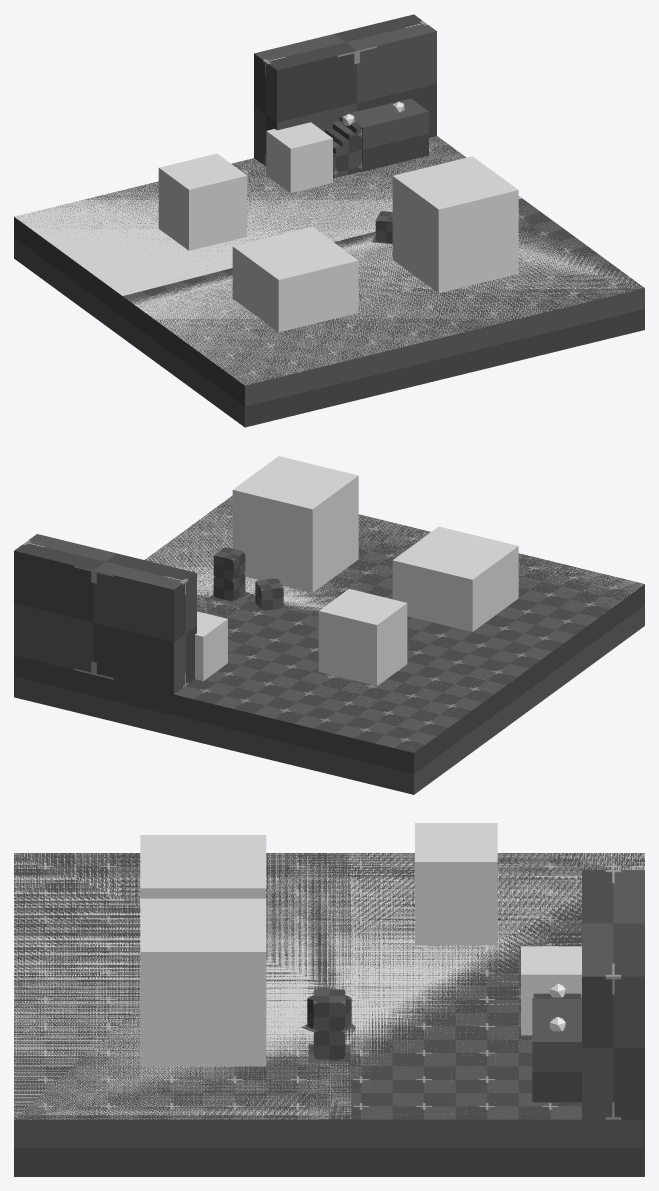
Rendered from test_rooms.glb.
3 views of the same model, one above another, from view 1: azimuth 30°, elevation 25°; view 2: azimuth 150°, elevation 25°; view 3: azimuth 270°, elevation 25° (orthographic). The views are drawn at different scales.
Parts seen in each view (by area): view 1: floor, walk_area, Cube, interactable.002, interactable.001, interactable.003.cleaner_dialog, Cube.001, interactable.003, stairs; view 2: floor, Cube, interactable.002, interactable.001, interactable.003.cleaner_dialog, walk_area, interactable.003, cube tall, cube small; view 3: floor, walk_area, interactable.002, Cube, interactable.003.cleaner_dialog, interactable.001, Cube.001, interactable.003, cube tall.
Boxes of the visible parts, x1,y1,x2,y2 form: floor: (14, 136, 644, 427); walk_area: (14, 136, 644, 385); Cube: (254, 14, 436, 166); interactable.002: (392, 156, 518, 293); interactable.001: (232, 227, 358, 332); interactable.003.cleaner_dialog: (158, 153, 247, 250); Cube.001: (346, 98, 428, 171); interactable.003: (266, 122, 332, 192); stairs: (325, 114, 362, 178); floor: (14, 495, 644, 794); Cube: (14, 534, 196, 694); interactable.002: (232, 456, 358, 592); interactable.001: (392, 526, 518, 631); interactable.003.cleaner_dialog: (318, 589, 407, 685); walk_area: (145, 496, 643, 747); interactable.003: (195, 611, 227, 680); cube tall: (213, 547, 245, 601); cube small: (255, 578, 283, 610); floor: (14, 853, 644, 1176); walk_area: (14, 853, 644, 1119); interactable.002: (140, 898, 266, 1066); Cube: (582, 870, 644, 1119); interactable.003.cleaner_dialog: (415, 823, 497, 945); interactable.001: (140, 835, 266, 898); Cube.001: (532, 998, 581, 1102); interactable.003: (521, 946, 581, 1035); cube tall: (313, 989, 345, 1059).
Bounding box in the file's own units: 20 × 7 × 20.
1 material, 1 textured.
